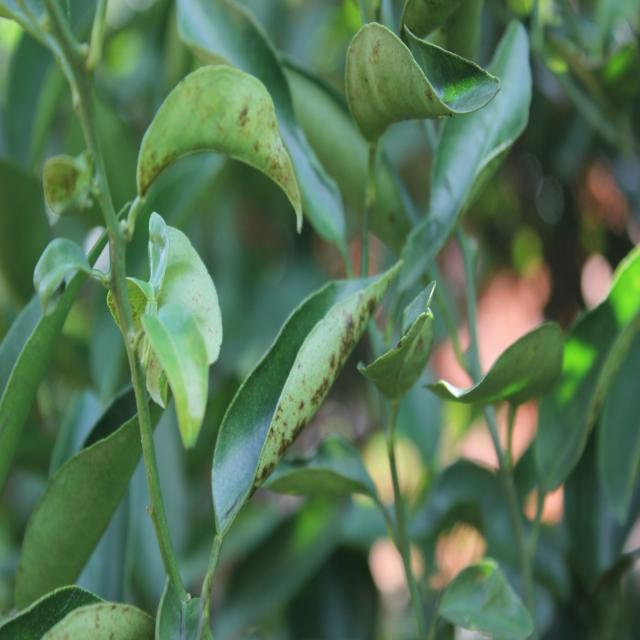melanose: (212, 245, 414, 503), (119, 53, 315, 240), (320, 20, 492, 140), (99, 271, 190, 416), (26, 144, 106, 247)
